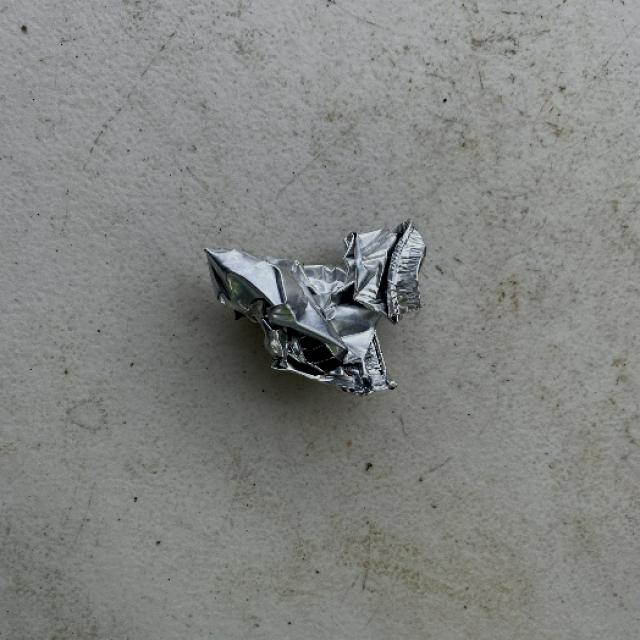inorganic: (204, 216, 441, 396)
